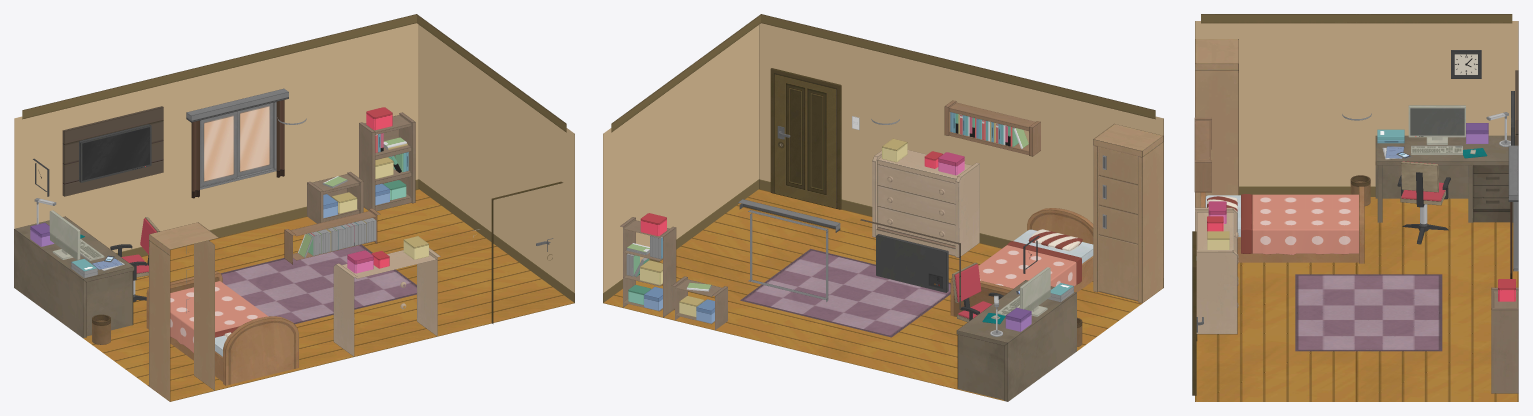
The model's file is House.gltf.
3 renders of one model, left to right at view 1: azimuth 30°, elevation 25°; view 2: azimuth 150°, elevation 25°; view 3: azimuth 270°, elevation 25°, orthographic. The views are drawn at different scales.
Parts seen in each view (by area): view 1: wall_corner (2), wall, wall_corner (3), wall_corner, bed2, floor1, desk, window2, carpet3, cupboard2, tv_wall, floor1 (5) (+15 smaller); view 2: wall_corner (3), wall (1), cupboard2, wall_corner (2), wall_corner (1), carpet3, door1, drawer, desk, floor1, bed2, floor1 (4) (+15 smaller); view 3: wall_corner (1), wall_corner, carpet3, floor1, bed2, floor1 (3), floor1 (5), desk, cupboard2, floor1 (4), floor1 (1), drawer (+16 smaller).
Boxes of the visible parts, x1=… form: wall_corner (2): x1=284, y1=14, x2=496, y2=245; wall: x1=149, y1=45, x2=286, y2=237; wall_corner (3): x1=491, y1=69, x2=574, y2=302; wall_corner: x1=14, y1=78, x2=151, y2=256; bed2: x1=146, y1=271, x2=298, y2=385; floor1: x1=392, y1=246, x2=574, y2=335; desk: x1=14, y1=216, x2=134, y2=338; window2: x1=186, y1=88, x2=288, y2=198; carpet3: x1=221, y1=244, x2=416, y2=324; cupboard2: x1=149, y1=222, x2=218, y2=401; tv_wall: x1=62, y1=106, x2=163, y2=196; floor1 (5): x1=284, y1=189, x2=496, y2=270; wall_corner (3): x1=681, y1=14, x2=893, y2=245; wall (1): x1=891, y1=45, x2=1028, y2=248; cupboard2: x1=1093, y1=124, x2=1163, y2=303; wall_corner (2): x1=603, y1=69, x2=686, y2=302; wall_corner (1): x1=1026, y1=78, x2=1163, y2=287; carpet3: x1=740, y1=248, x2=950, y2=337; door1: x1=770, y1=68, x2=841, y2=209; drawer: x1=872, y1=150, x2=979, y2=257; desk: x1=956, y1=280, x2=1076, y2=401; floor1: x1=681, y1=189, x2=872, y2=270; bed2: x1=950, y1=208, x2=1093, y2=316; floor1 (4): x1=738, y1=307, x2=950, y2=368; wall_corner (1): x1=1195, y1=14, x2=1356, y2=195; wall_corner: x1=1356, y1=14, x2=1518, y2=196; carpet3: x1=1295, y1=274, x2=1442, y2=351; floor1: x1=1195, y1=333, x2=1356, y2=401; bed2: x1=1200, y1=186, x2=1364, y2=263; floor1 (3): x1=1356, y1=197, x2=1513, y2=265; floor1 (5): x1=1356, y1=333, x2=1518, y2=401; desk: x1=1375, y1=135, x2=1515, y2=222; cupboard2: x1=1195, y1=39, x2=1238, y2=207; floor1 (4): x1=1356, y1=265, x2=1518, y2=333; floor1 (1): x1=1237, y1=265, x2=1356, y2=333; drawer: x1=1195, y1=207, x2=1238, y2=334.
Size of what is drawn, in the model's own units: 7.5 by 3.16 by 5.04.
14 materials, 14 textured.
